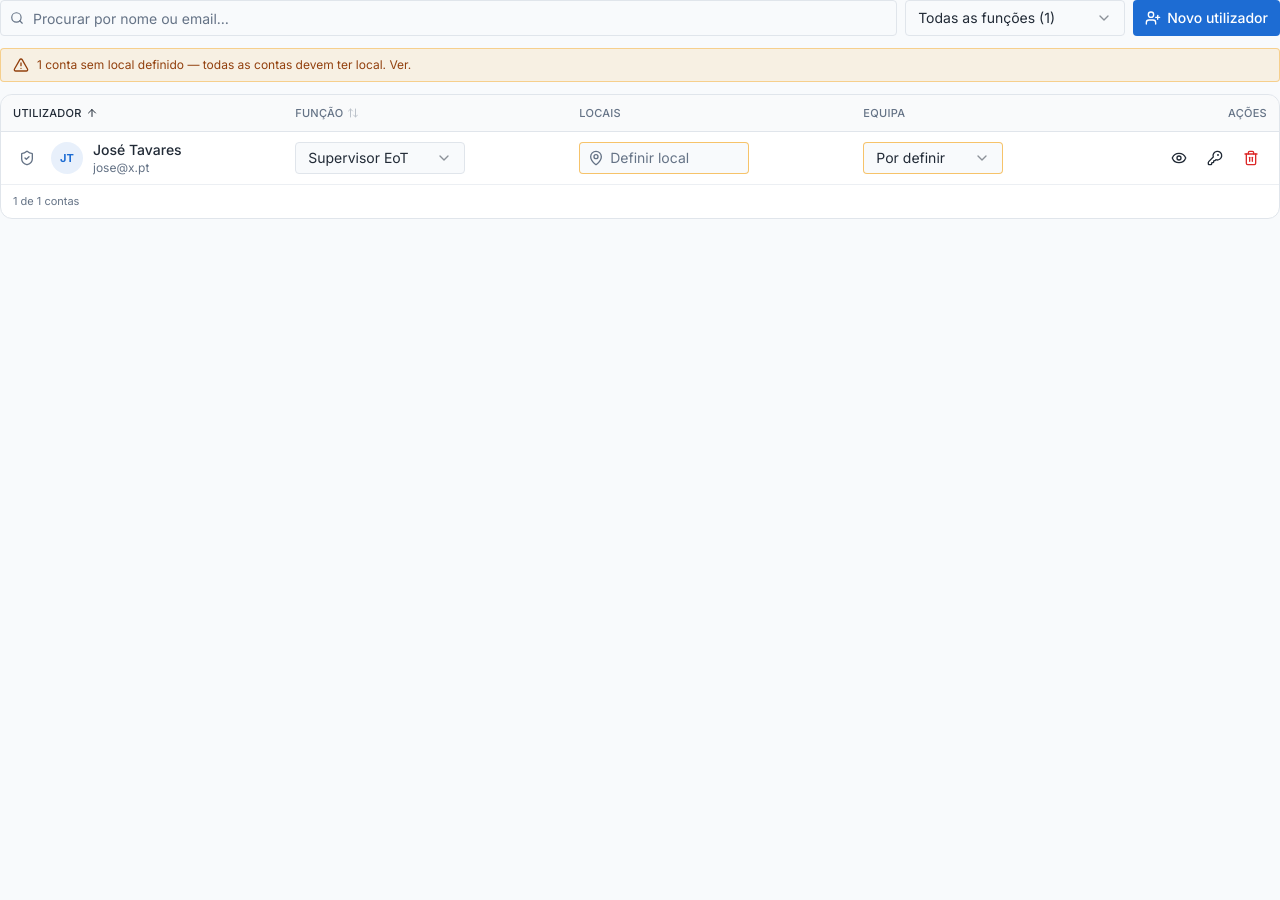
Test case: Repor password › login só desta plataforma: repõe à primeira, sem confirmação
Step 1. Click the button titled "Repor password" → (1215, 158), box [1199, 142, 1231, 174]
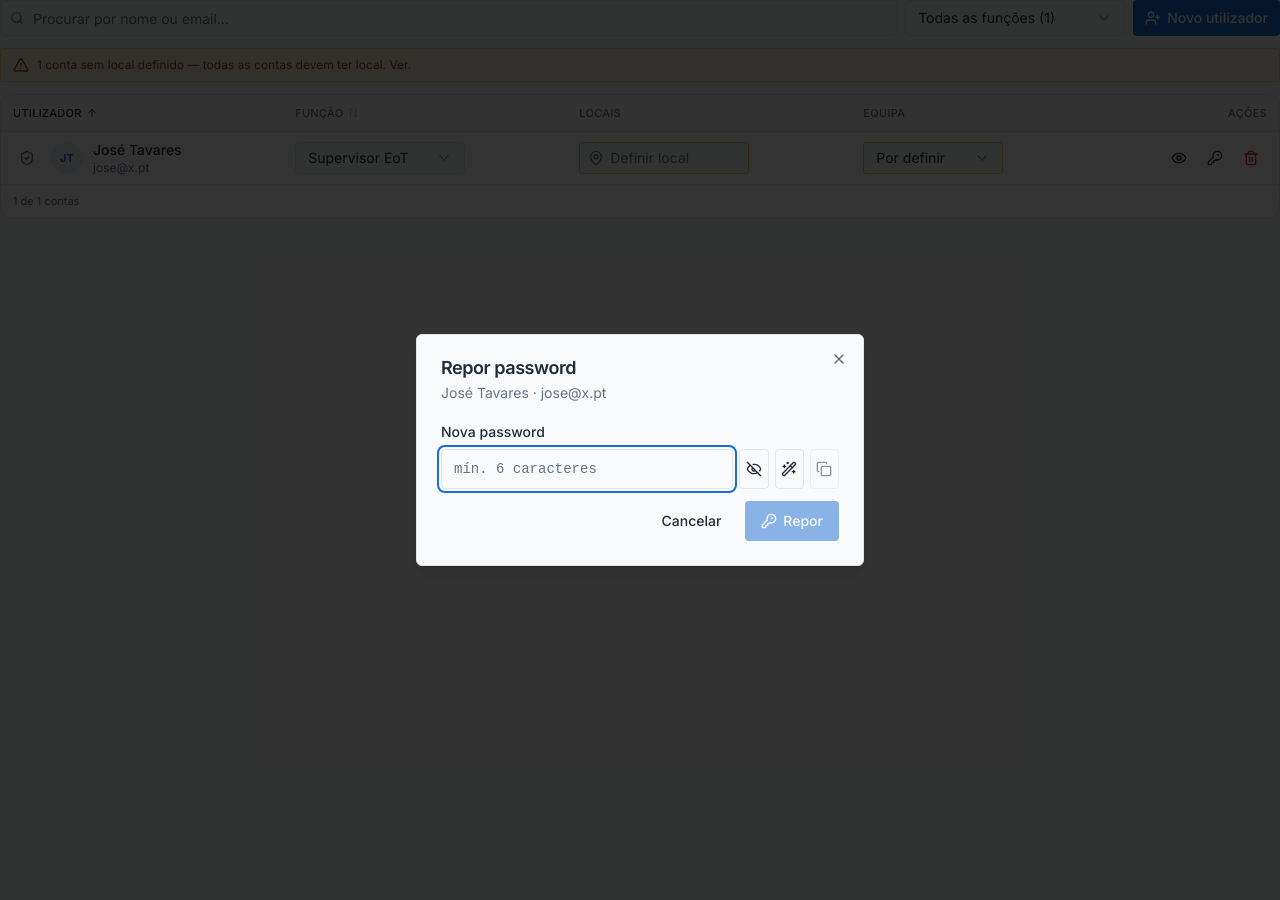
Step 2. Type "Nova-pass-1" into the field labelled "Nova password" → (587, 469), box [441, 449, 733, 489]
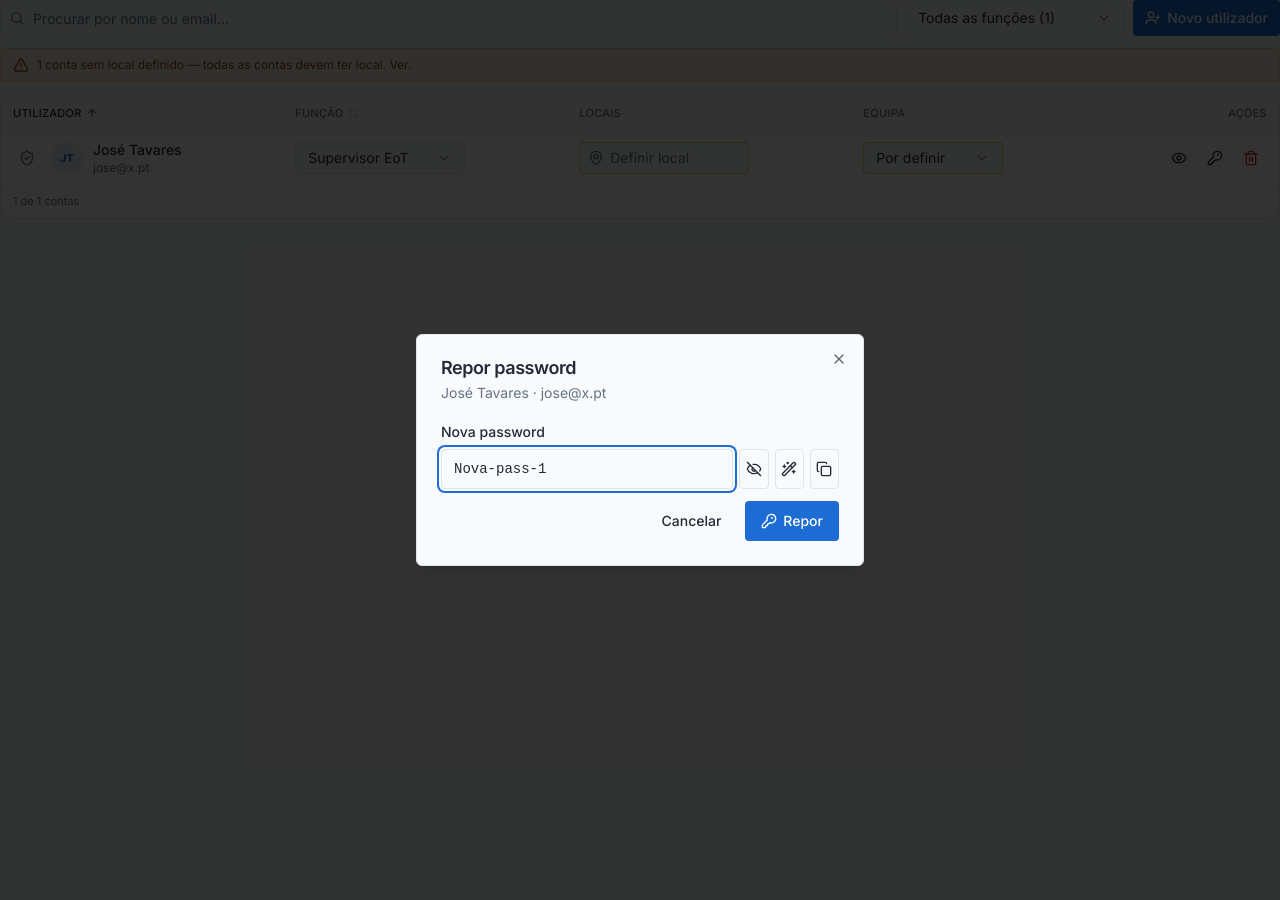
Step 3. Click the button "Repor" → (792, 521), box [745, 501, 839, 541]
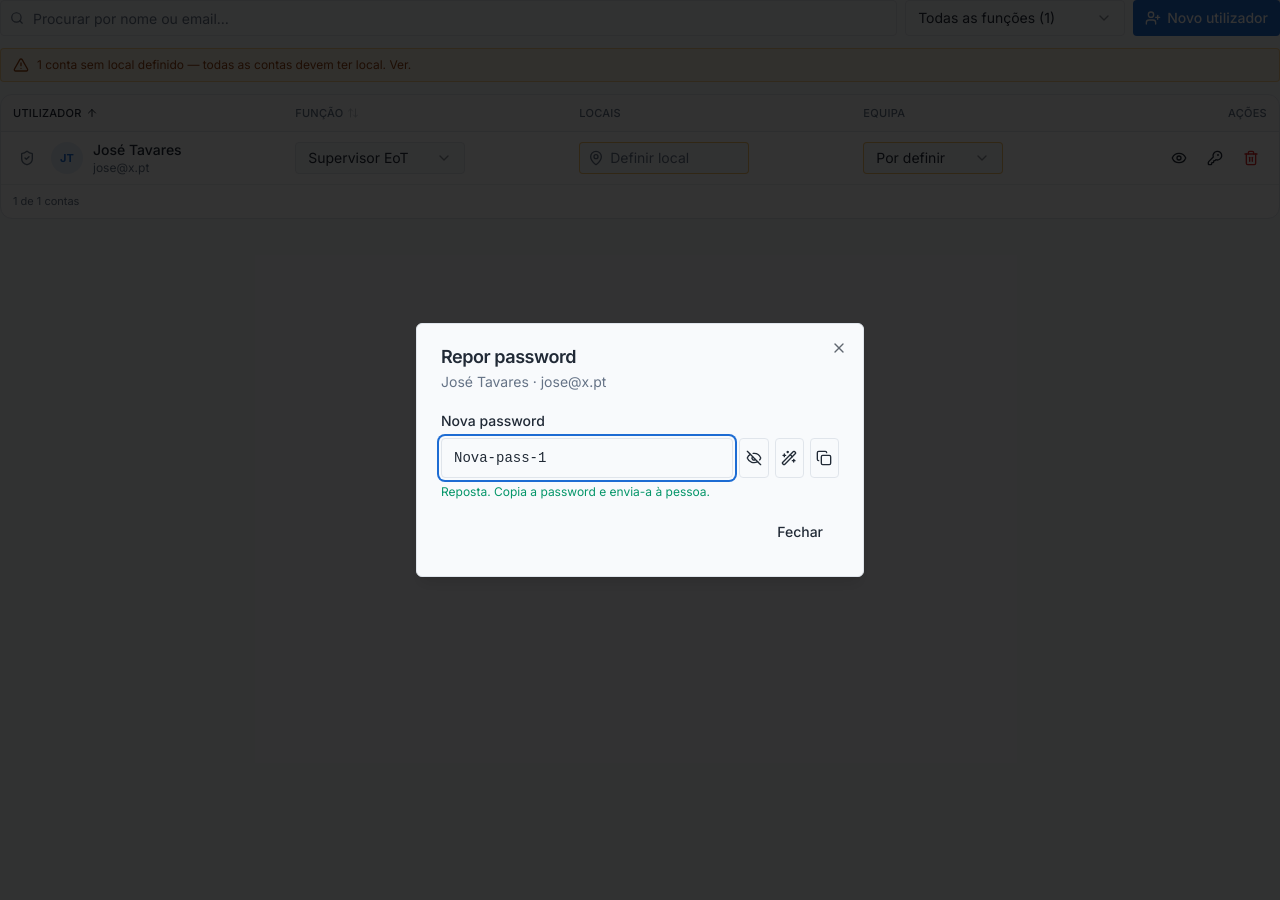
Expected: the text "Reposta. Copia a password e envia-a à pessoa." is shown, [441, 484, 710, 499]
